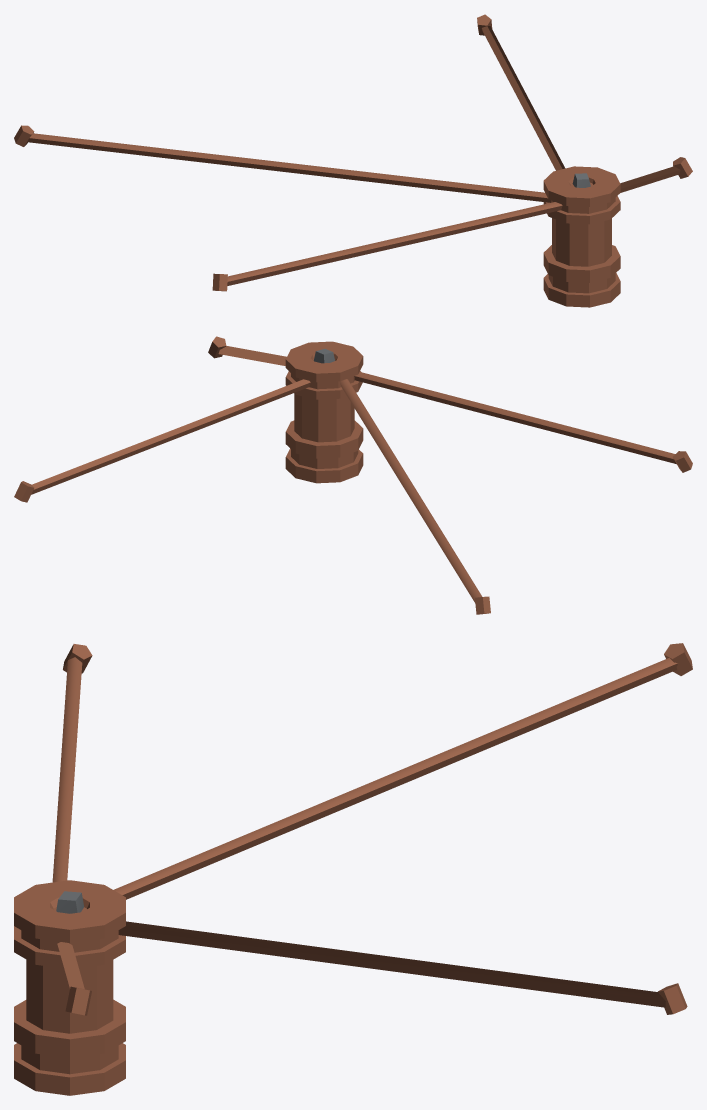
Rendered from LightWoodMechLargeSailSkeleton1.fbx.
The picture shows the model from 3 angles, top to bottom: view 1: azimuth 30°, elevation 25°; view 2: azimuth 150°, elevation 25°; view 3: azimuth 270°, elevation 25°; orthographic projection. The views are drawn at different scales.
Parts seen in each view (by area): view 1: LightWoodMechLargeSailSkeleton1; view 2: LightWoodMechLargeSailSkeleton1; view 3: LightWoodMechLargeSailSkeleton1.
Part boxes in pixels (box(x1,y1,x2,y2)): LightWoodMechLargeSailSkeleton1: box(14, 14, 692, 307); LightWoodMechLargeSailSkeleton1: box(14, 336, 692, 614); LightWoodMechLargeSailSkeleton1: box(14, 643, 692, 1095).
Size of the model in its own units: 556 by 129 by 449.
